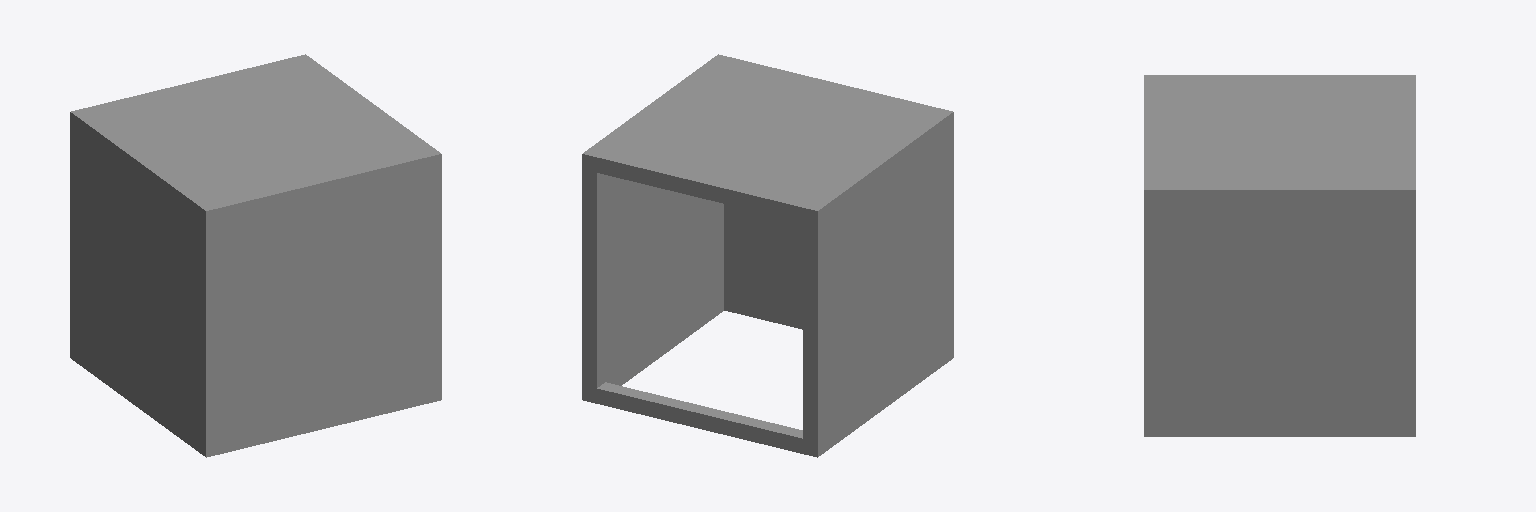
File: bottomhatch.obj
3 renders of one model, left to right at view 1: azimuth 30°, elevation 25°; view 2: azimuth 150°, elevation 25°; view 3: azimuth 270°, elevation 25°, orthographic.
Parts seen in each view (by area): view 1: Cube; view 2: Cube; view 3: Cube.
Boxes of the visible parts, box(x1,y1,x2,y2) form: Cube: box(70, 54, 441, 457); Cube: box(582, 54, 953, 457); Cube: box(1144, 75, 1415, 436).
Size of the model in its own units: 1 by 1 by 1.